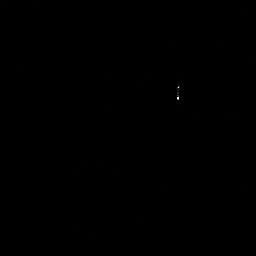ship: (175, 82, 181, 103)
